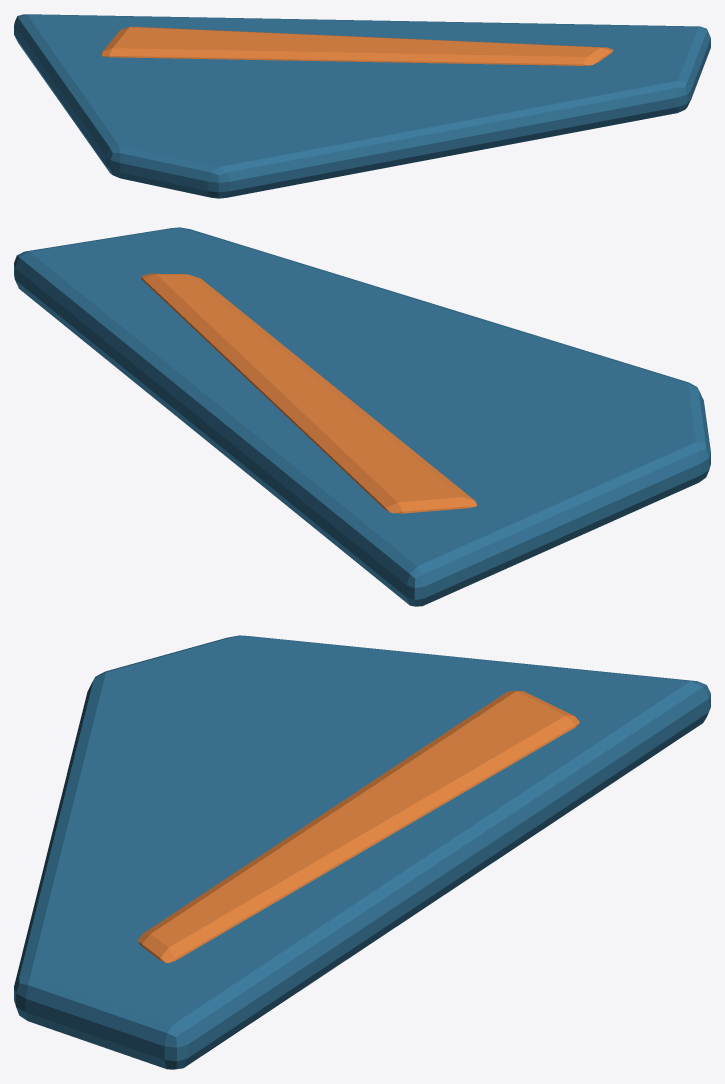
Rendered from SweptWing.fbx.
3 renders of one model, top to bottom at view 1: azimuth 30°, elevation 25°; view 2: azimuth 150°, elevation 25°; view 3: azimuth 270°, elevation 25°, orthographic. The views are drawn at different scales.
Visible parts, largest first — view 1: SweptWing_RENDER, SweptWingAccent_RENDER; view 2: SweptWing_RENDER, SweptWingAccent_RENDER; view 3: SweptWing_RENDER, SweptWingAccent_RENDER.
Boxes of the visible parts, x1,y1,x2,y2 form: SweptWing_RENDER: (14,14,710,198); SweptWingAccent_RENDER: (101,26,613,65); SweptWing_RENDER: (14,227,710,606); SweptWingAccent_RENDER: (141,273,476,513); SweptWing_RENDER: (14,635,710,1069); SweptWingAccent_RENDER: (138,690,579,962).
Bounding box in the file's own units: 2.47 × 0.15 × 1.81.
